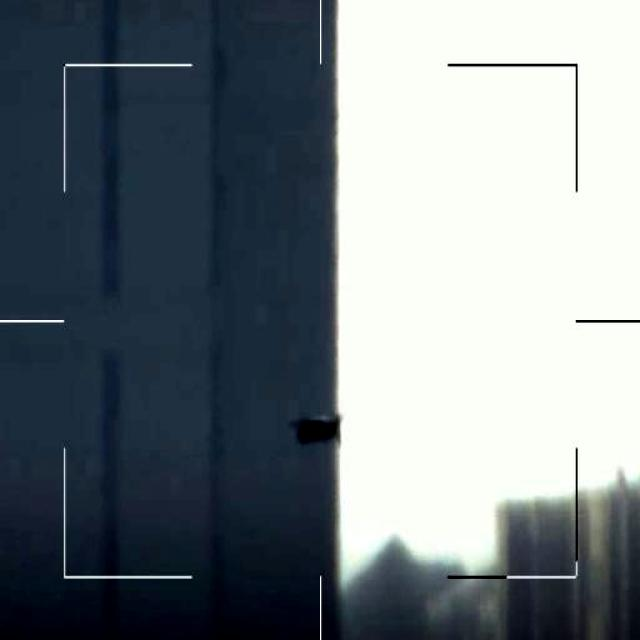bird: (294, 412, 346, 446)
